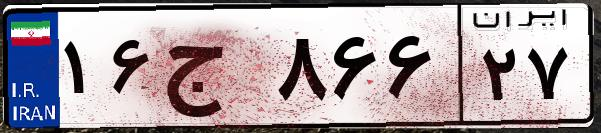1: (57, 26, 110, 100)
2: (475, 38, 525, 113)
6: (385, 28, 445, 110), (330, 28, 385, 110), (110, 28, 158, 98)
7: (525, 38, 570, 115)
8: (270, 28, 330, 110)
ج: (158, 20, 270, 120)
